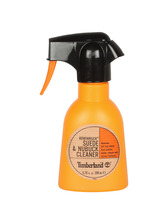other: (35, 31, 136, 201)
